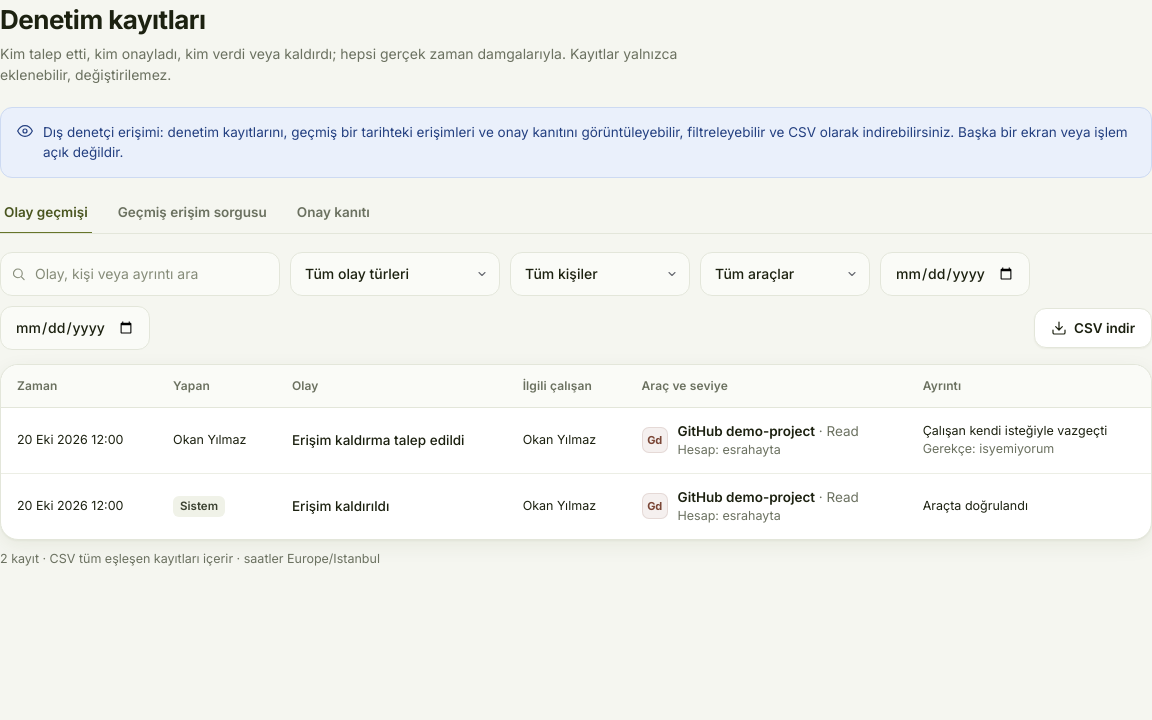
it: audit explorer › names the tool, level and account of access events in Turkish, with the technical record in the details
Click the row that starts with "20 Eki 2026 12:00" at x=576, y=440, box [1,407,1151,473]
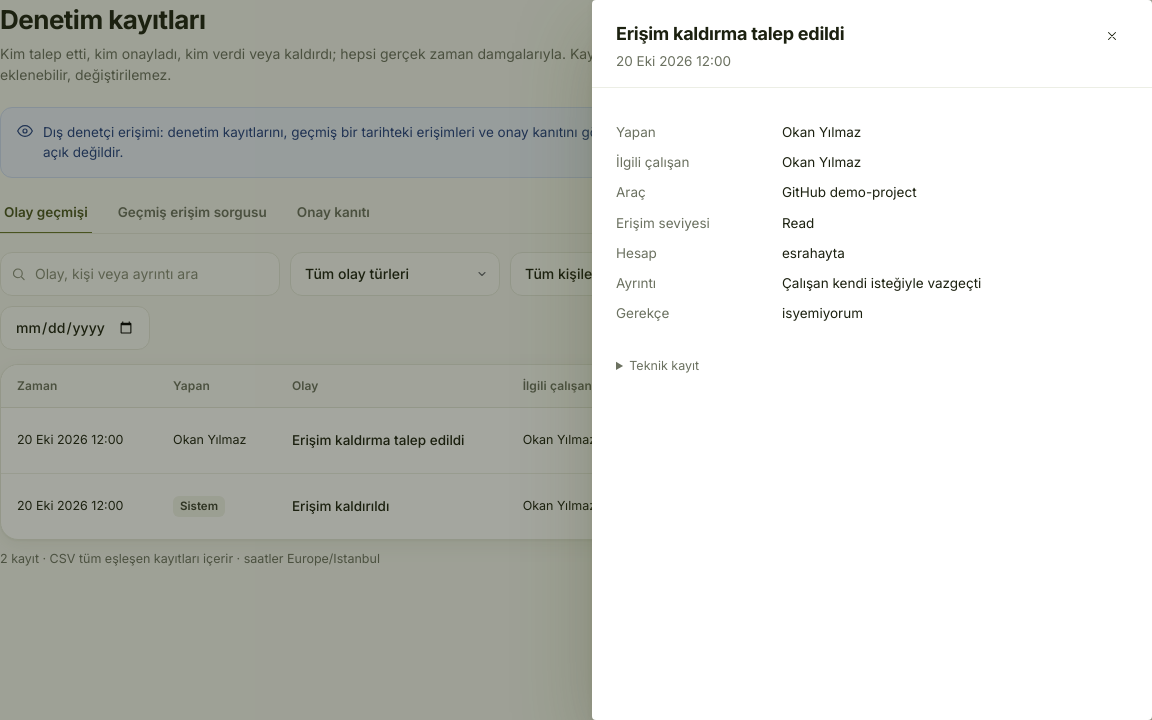
expect the text "Erişim seviyesi" is shown: met, box [616,214,710,230]
expect the text "esrahayta" is shown: met, box [782,245,845,261]
expect the text "isyemiyorum" is shown: met, box [782,305,863,321]
